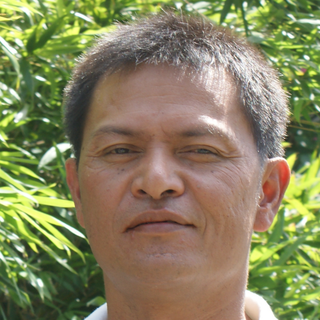eye: (179, 141, 229, 164), (98, 140, 144, 163)
